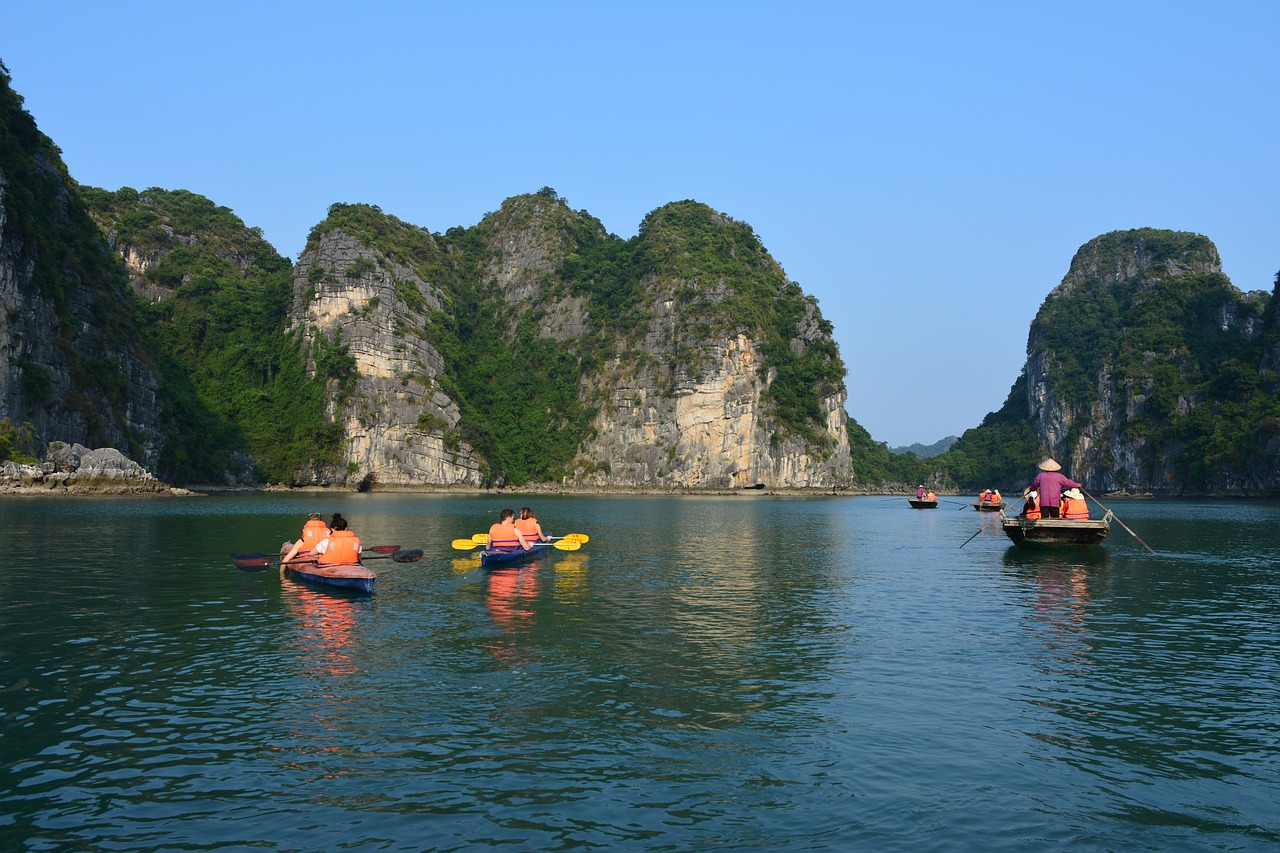kayak: (281, 541, 377, 594), (477, 536, 555, 573)
